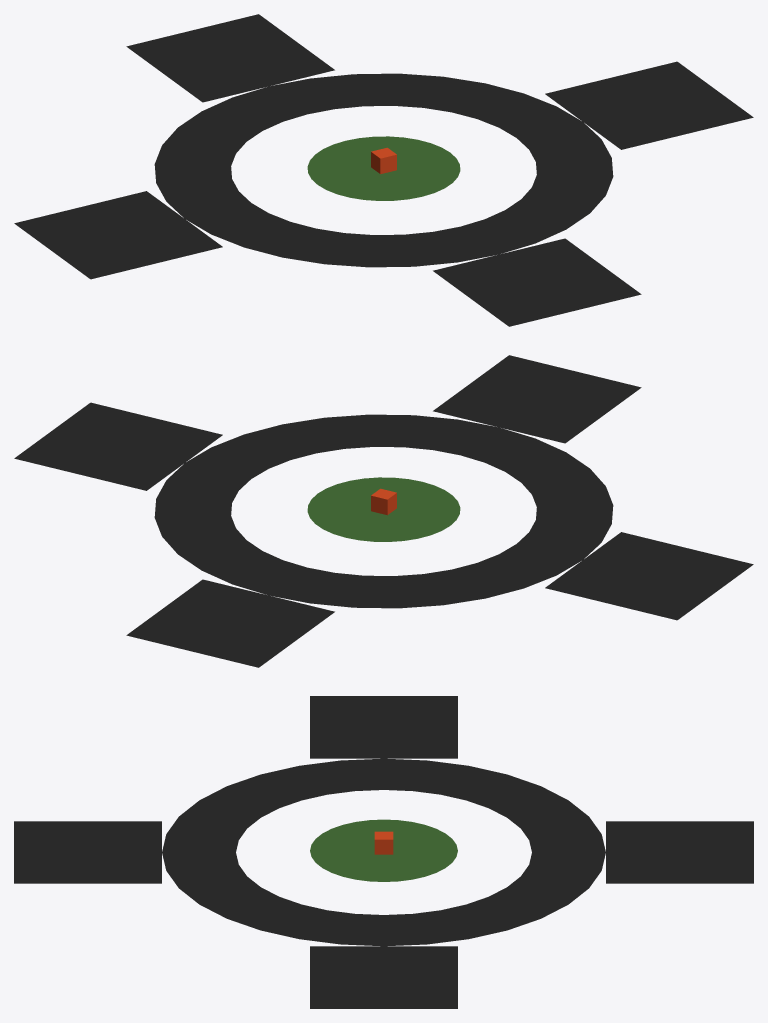
File: road-roundabout.glb
3 views of the same model, one above another, from view 1: azimuth 30°, elevation 25°; view 2: azimuth 150°, elevation 25°; view 3: azimuth 270°, elevation 25° (orthographic). The views are drawn at different scales.
Visible parts, largest first — view 1: road-roundabout-body; view 2: road-roundabout-body; view 3: road-roundabout-body.
Boxes of the visible parts, x1,y1,x2,y2 form: road-roundabout-body: (14,14,753,326); road-roundabout-body: (14,355,753,667); road-roundabout-body: (14,696,753,1008).
Size of the model in its own units: 20 by 0.5 by 20.
